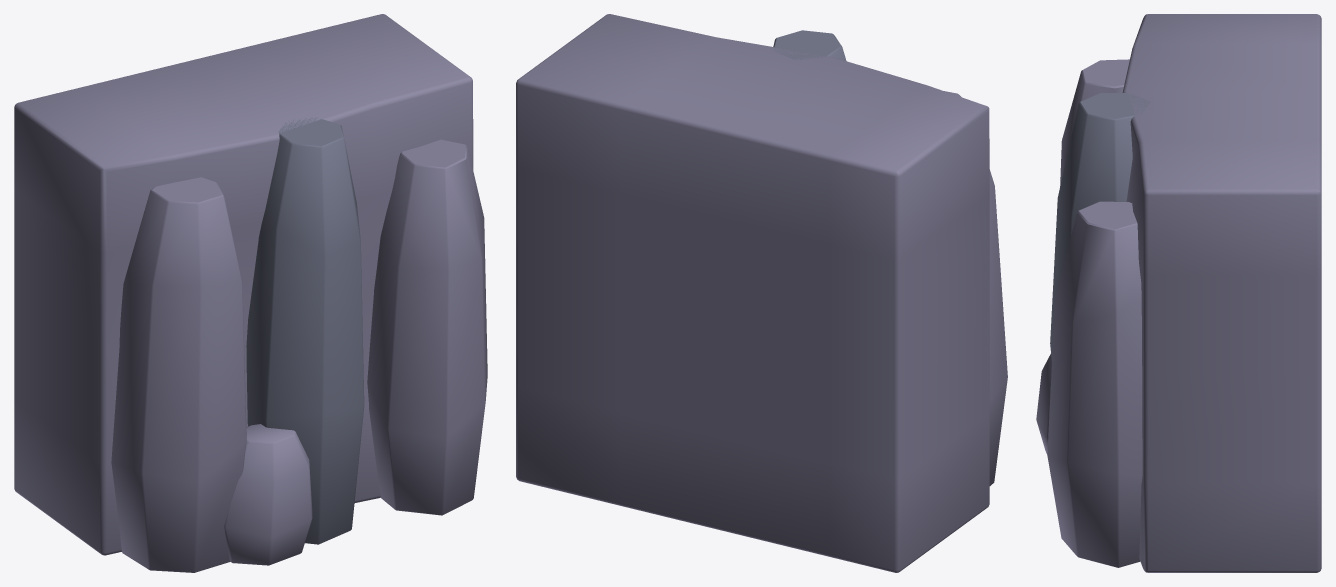
Rendered from cliff_rock_side_straight_01.glb.
3 views of the same model, side by side, from view 1: azimuth 30°, elevation 25°; view 2: azimuth 150°, elevation 25°; view 3: azimuth 270°, elevation 25° (orthographic). The views are drawn at different scales.
Visible parts, largest first — view 1: cliff_rock_side_straight_01; view 2: cliff_rock_side_straight_01; view 3: cliff_rock_side_straight_01.
Boxes of the visible parts, <box> form: cliff_rock_side_straight_01: <box>14,14,487,572</box>; cliff_rock_side_straight_01: <box>516,14,1007,572</box>; cliff_rock_side_straight_01: <box>1036,14,1321,572</box>.
Bounding box in the file's own units: 1 × 1 × 0.674.
